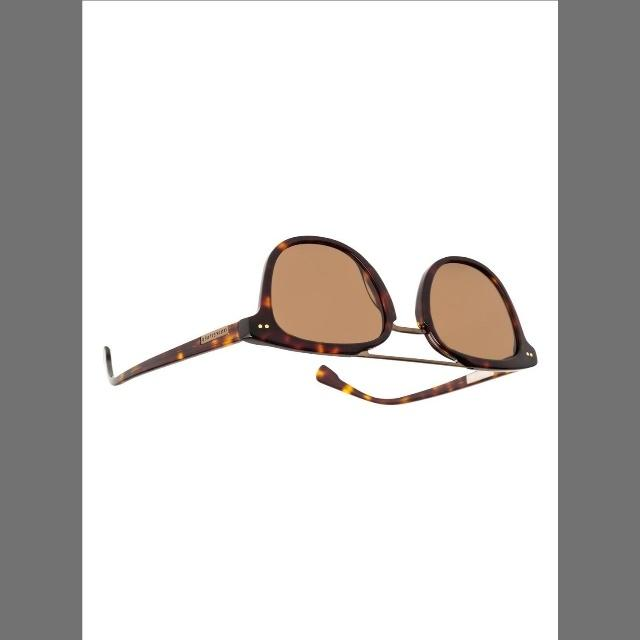Sunglasses: (90, 216, 548, 444)
